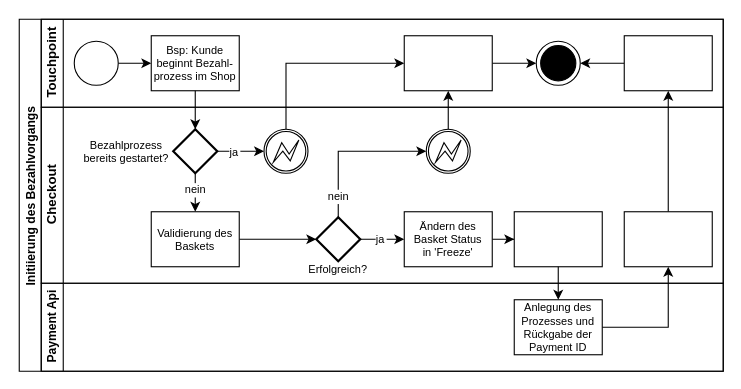
This 741x389 diagram has some shape labels left out. Here are the shapes that lost their labels. From the top down, the centre of each, then its label:
(447,63): Verarbeitung des Fehlercodes
(667,63): Abrufen der Payment Details anhand der ID
(557,239): Erstellen des externen Payment Prozesses
(667,239): Persistierung des Baskets mit Payment ID
